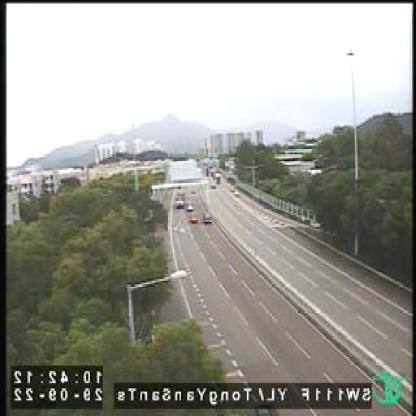Car: (203, 209, 213, 224), (192, 210, 199, 222)
